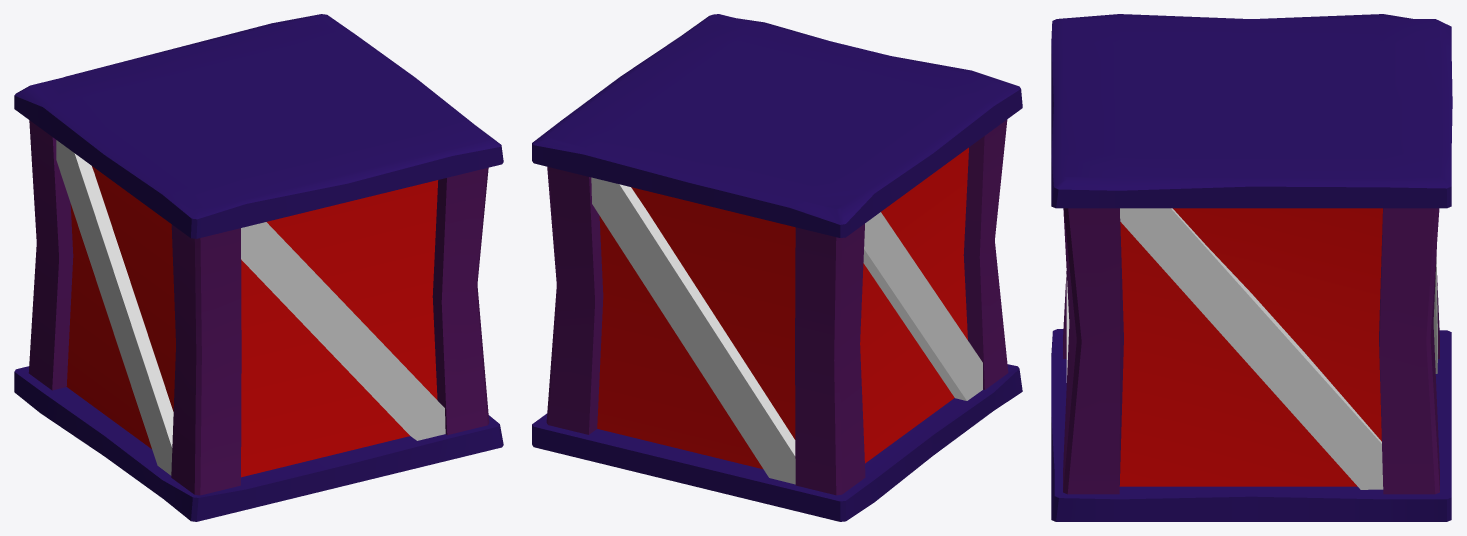
3 views of the same model, side by side, from view 1: azimuth 30°, elevation 25°; view 2: azimuth 150°, elevation 25°; view 3: azimuth 270°, elevation 25° (orthographic). The views are drawn at different scales.
Parts seen in each view (by area): view 1: SM_box_a_a, SM_box_a_b, SM_box_a_e; view 2: SM_box_a_a, SM_box_a_d, SM_box_a_e; view 3: SM_box_a_a, SM_box_a_c.
Part boxes in pixels (x1,y1,x2,y2): SM_box_a_a: (14,14,503,521); SM_box_a_b: (241,222,445,440); SM_box_a_e: (56,140,173,475); SM_box_a_a: (532,14,1022,521); SM_box_a_d: (591,177,795,484); SM_box_a_e: (863,212,982,400); SM_box_a_a: (1051,14,1452,521); SM_box_a_c: (1120,208,1383,489).
Size of the model in its own units: 1.72 by 1.62 by 1.72.
